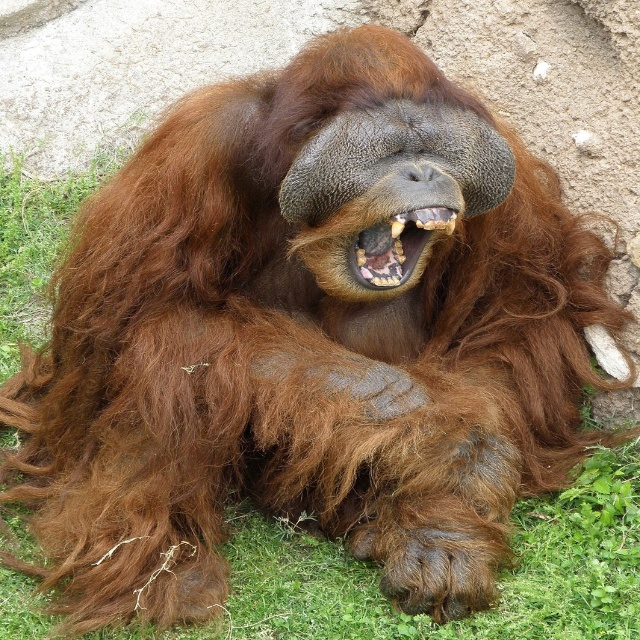Monkey: (25, 42, 594, 512)
